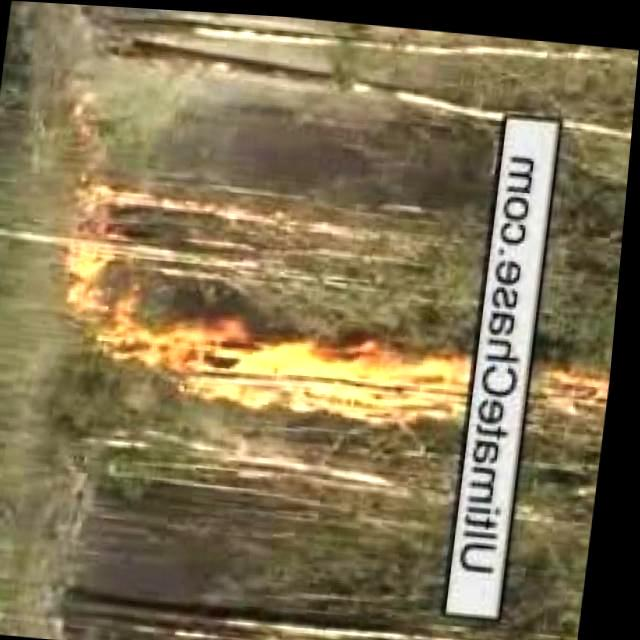fire: (193, 313, 472, 417), (52, 178, 196, 370), (544, 354, 616, 401)
